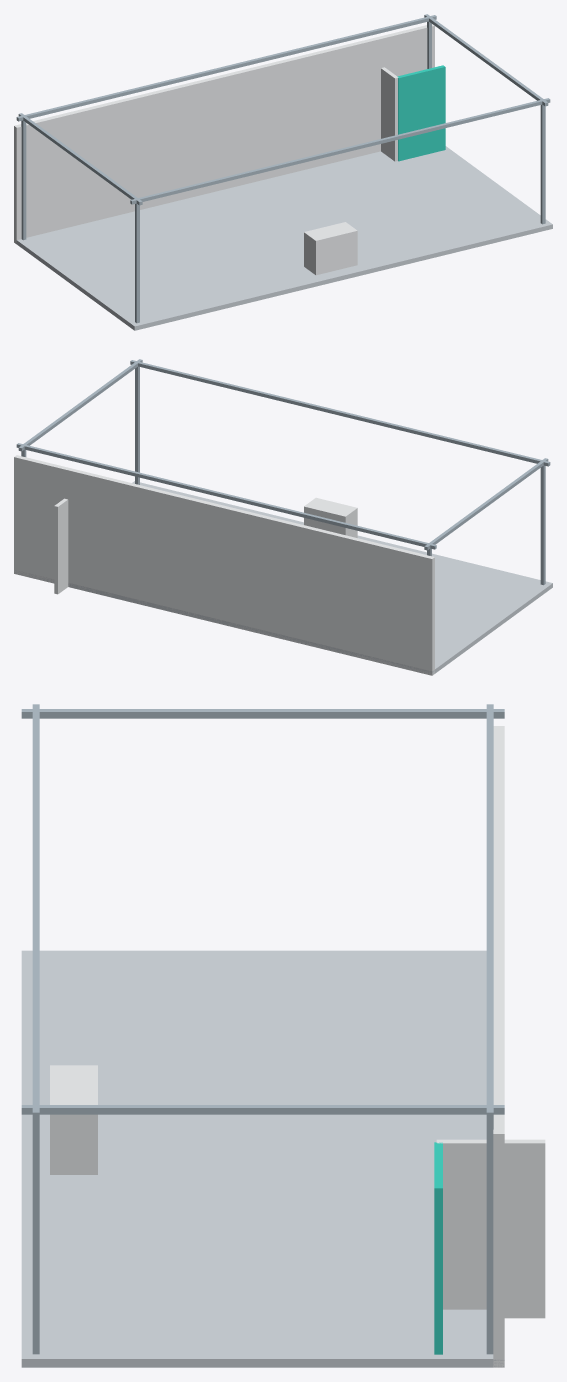
The picture shows the model from 3 angles, top to bottom: view 1: azimuth 30°, elevation 25°; view 2: azimuth 150°, elevation 25°; view 3: azimuth 270°, elevation 25°; orthographic projection. The views are drawn at different scales.
Parts seen in each view (by area): view 1: Exhibition Booth Concept; view 2: Exhibition Booth Concept; view 3: Exhibition Booth Concept.
Boxes of the visible parts, box(x1,y1,x2,y2) form: Exhibition Booth Concept: box(14, 14, 552, 330); Exhibition Booth Concept: box(14, 359, 552, 675); Exhibition Booth Concept: box(21, 704, 545, 1367).
Size of the model in its own units: 12 by 3.49 by 6.51.
